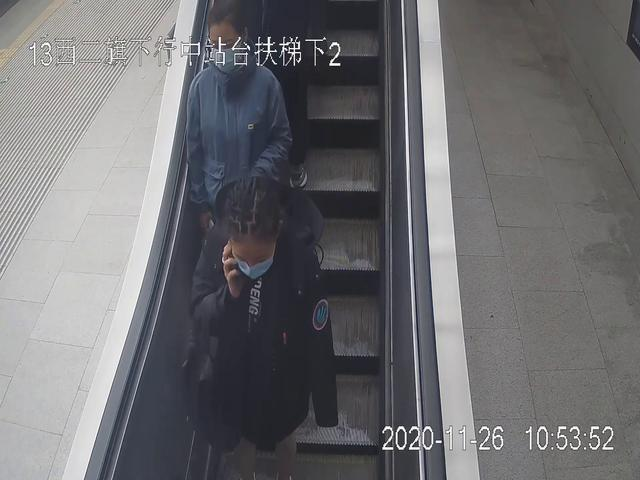person: (191, 178, 339, 480), (184, 6, 290, 364)
